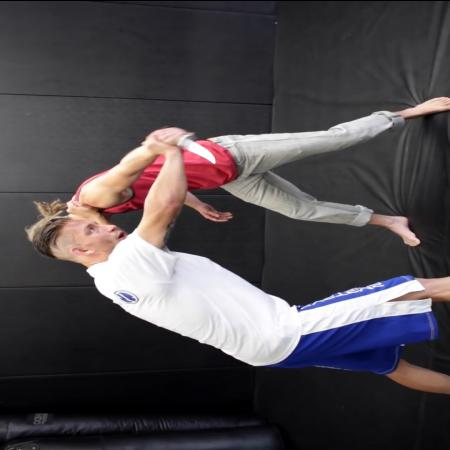long weapon: (155, 122, 222, 166)
